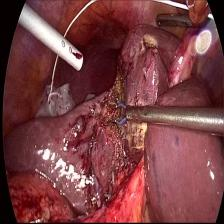Bipolar: (104, 100, 136, 133)
Grasper: (154, 10, 204, 28)
Irrigator: (50, 28, 86, 74)
Specimen Bag: (30, 78, 77, 122)
